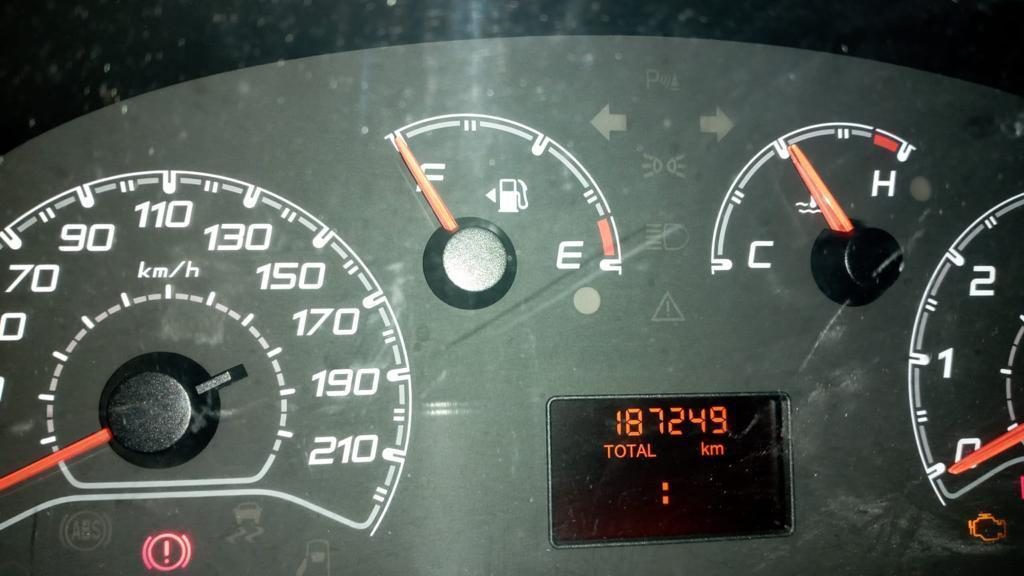1: (614, 407, 623, 436)
2: (668, 405, 684, 436)
4: (687, 406, 706, 433)
7: (648, 406, 664, 434)
8: (625, 407, 643, 436)
9: (709, 405, 727, 434)
X: (660, 477, 671, 509), (602, 443, 614, 459), (614, 443, 626, 459), (710, 443, 723, 456), (636, 443, 647, 458), (626, 442, 636, 458), (700, 440, 709, 457), (647, 443, 656, 458)
odometer: (544, 390, 797, 551)
